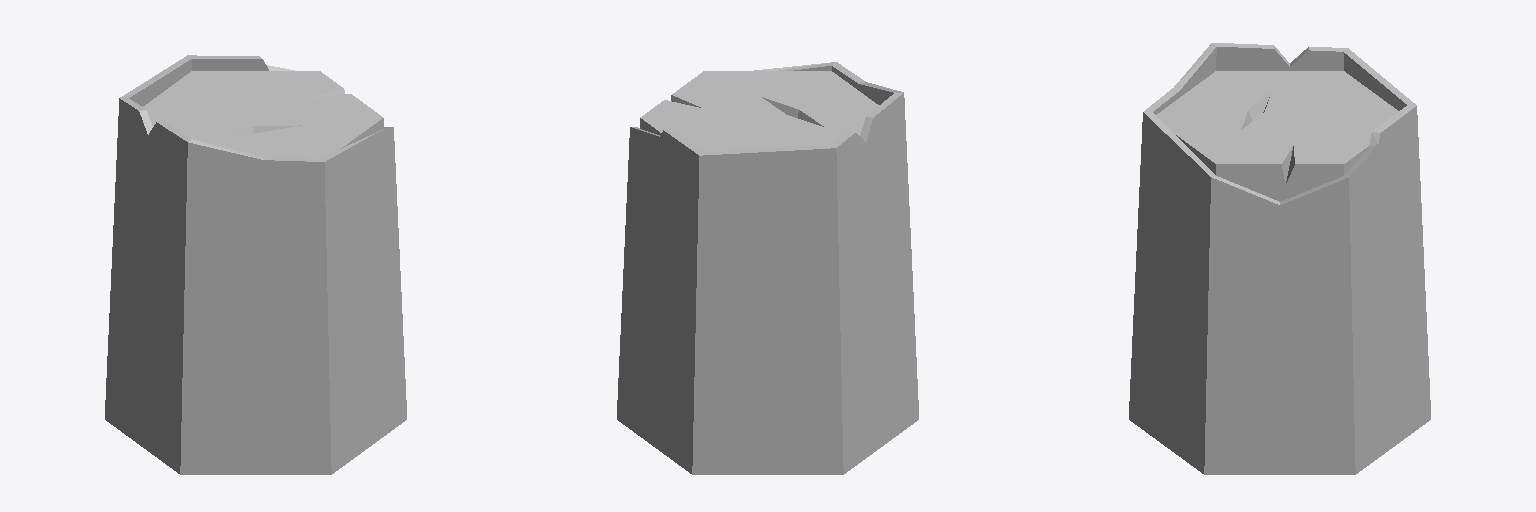
File: Prop_Stump.obj
3 views of the same model, side by side, from view 1: azimuth 30°, elevation 25°; view 2: azimuth 150°, elevation 25°; view 3: azimuth 270°, elevation 25° (orthographic).
Visible parts, largest first — view 1: object1, object2; view 2: object1, object2; view 3: object1, object2.
Boxes of the visible parts, x1,y1,x2,y2 form: object1: [105, 55, 406, 474]; object2: [143, 71, 383, 158]; object1: [617, 62, 918, 474]; object2: [640, 71, 878, 151]; object1: [1129, 43, 1430, 474]; object2: [1156, 71, 1398, 201].
Size of the model in its own units: 0.433 by 0.5959 by 0.5.